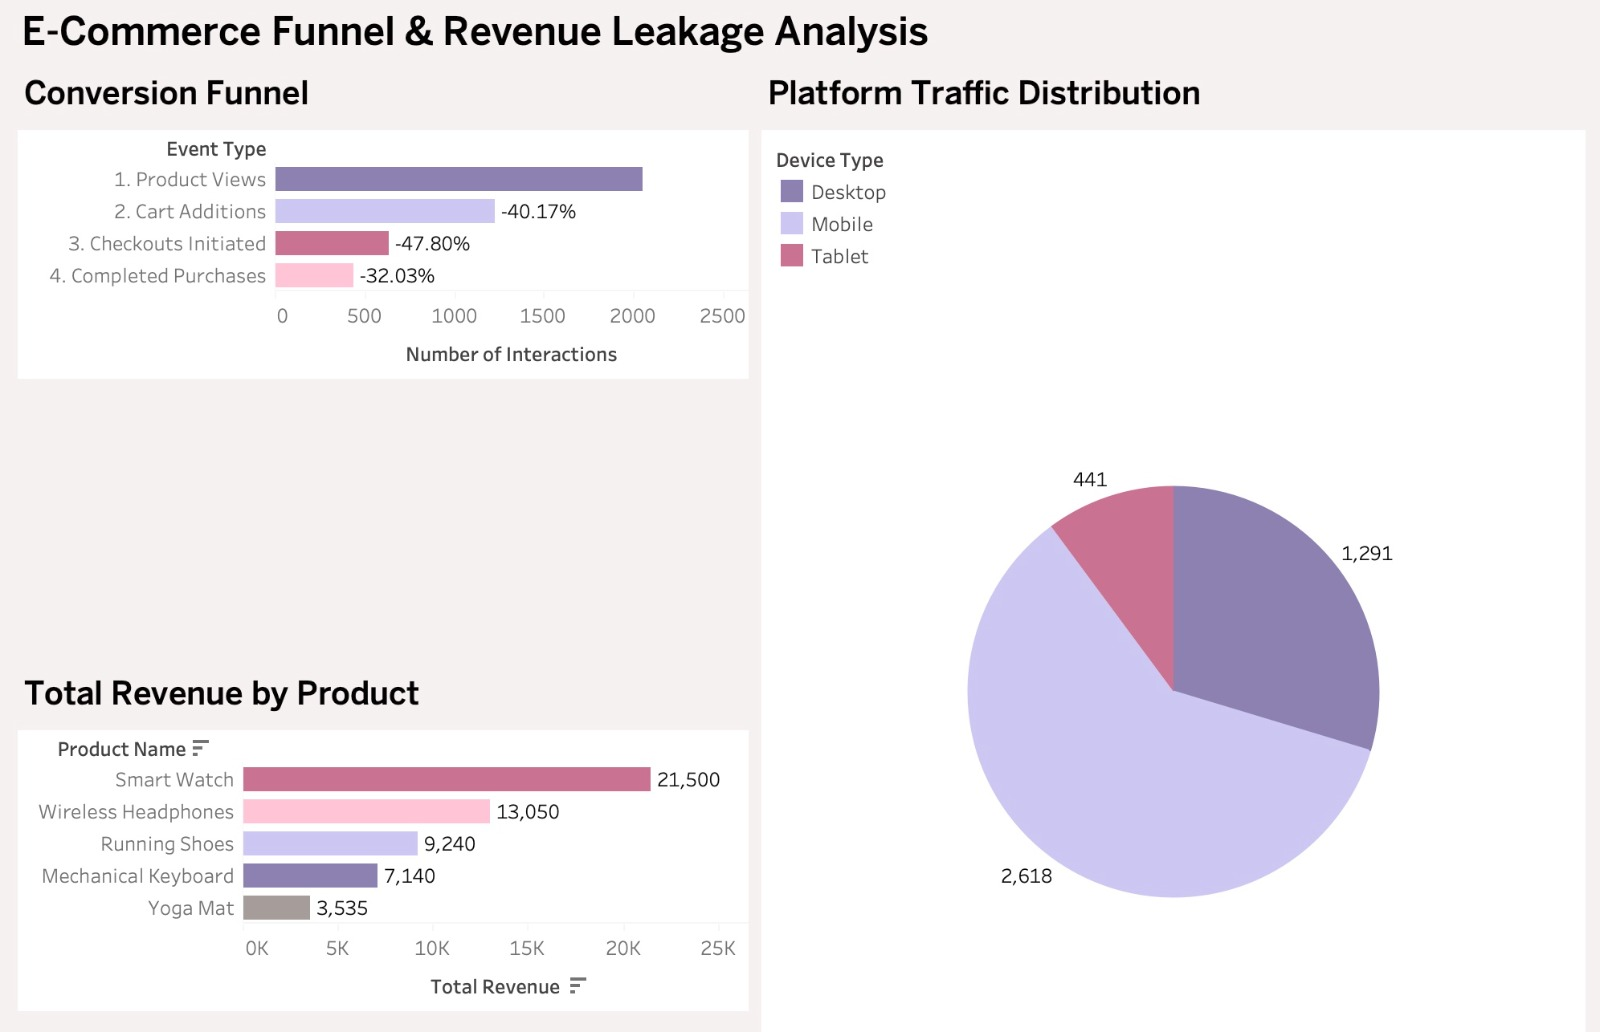

The dashboard page shown, as its layout file describes it:
{"tool":"tableau","page":{"name":"Dashboard 1","canvas":[1000,800],"ordinal":0},"visuals":[{"type":"title","box":[8,8,984,37]},{"type":"worksheet","title":"Sheet 1","mark":"Automatic","rows":["event_type"],"cols":["events.csv_F36008016B6E4A72A60599F86118226E"],"box":[8,45,463,373.5]},{"type":"worksheet","title":"Sheet 3","mark":"Pie","box":[471,45,521,747]},{"type":"legend","title":"Sheet 3","param":"[federated.0uq9w6j0dl11d217xp2ig1w38na8].[none:device_type:nk]","box":[484,98,118,78]},{"type":"worksheet","title":"Sheet 2","mark":"Automatic","rows":["product_name"],"cols":["Calculation_0638146272669701"],"box":[8,418.5,463,373.5]}]}

Visuals, with their boxes on the page's 1000x800 design canvas (x1, y1, x2, y2). These are canvas units, not pixel positions in the 1600x1032 screenshot, which may show the page scaled, cropped or inside an application window:
title: bbox=[8, 8, 992, 45]
"Sheet 1" worksheet: bbox=[8, 45, 471, 418]
"Sheet 3" worksheet (Pie marks): bbox=[471, 45, 992, 792]
"Sheet 3" legend: bbox=[484, 98, 602, 176]
"Sheet 2" worksheet: bbox=[8, 418, 471, 792]
